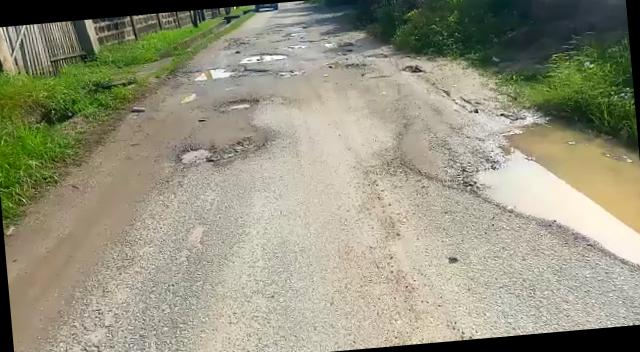pothole: (458, 111, 640, 295), (175, 137, 262, 169), (176, 66, 234, 84), (237, 50, 290, 65), (217, 95, 260, 112)
